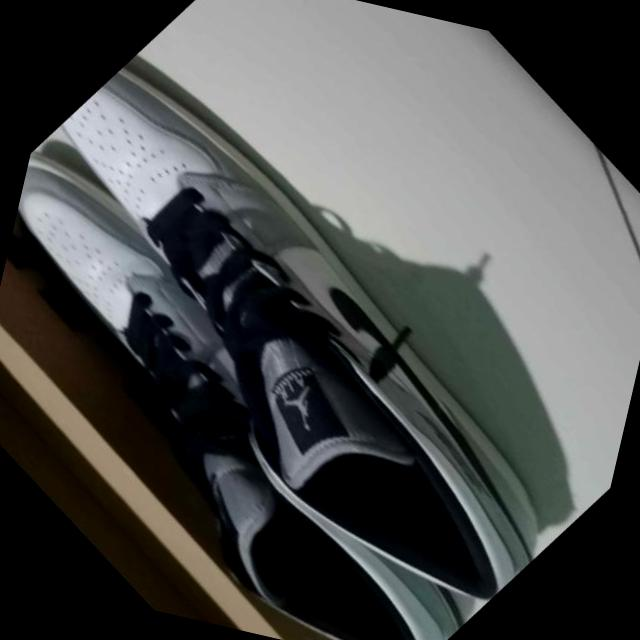nike_original_jordan: (0, 24, 640, 640), (0, 129, 567, 640)
